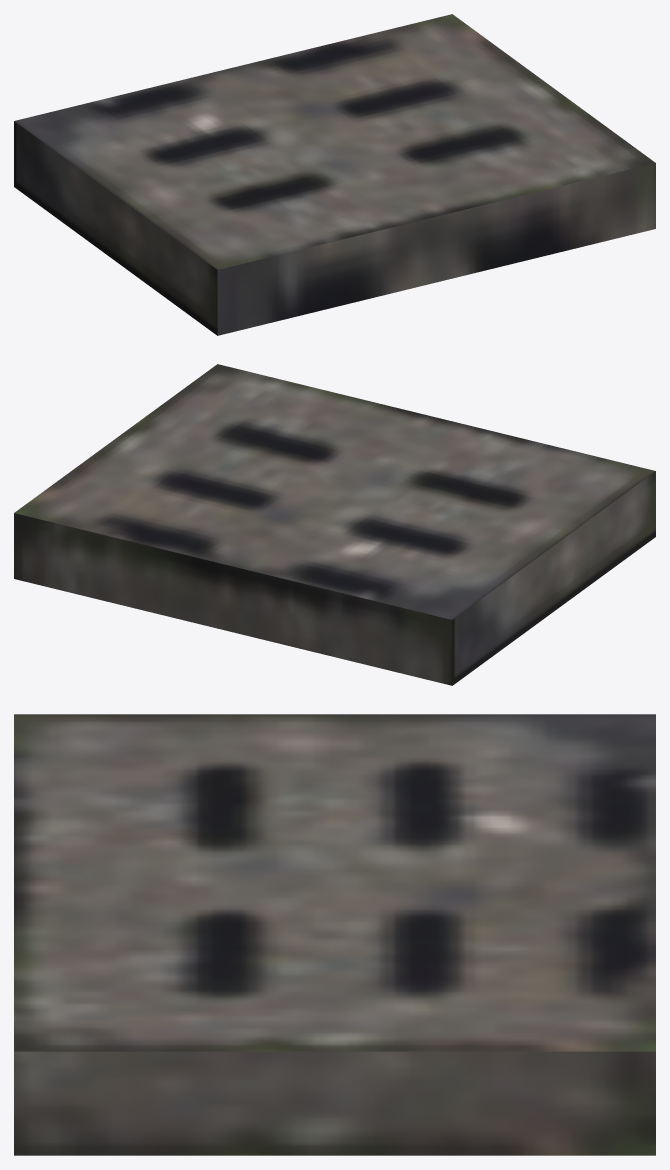
The model's file is road_a1_gutter1.fbx.
The picture shows the model from 3 angles, top to bottom: view 1: azimuth 30°, elevation 25°; view 2: azimuth 150°, elevation 25°; view 3: azimuth 270°, elevation 25°; orthographic projection. The views are drawn at different scales.
Parts seen in each view (by area): view 1: road_a1_gutter1; view 2: road_a1_gutter1; view 3: road_a1_gutter1.
Boxes of the visible parts, x1,y1,x2,y2 form: road_a1_gutter1: (14, 14, 655, 335); road_a1_gutter1: (14, 364, 655, 685); road_a1_gutter1: (14, 714, 655, 1155).
Bounding box in the file's own units: 0.3845 × 0.0552 × 0.3092.
